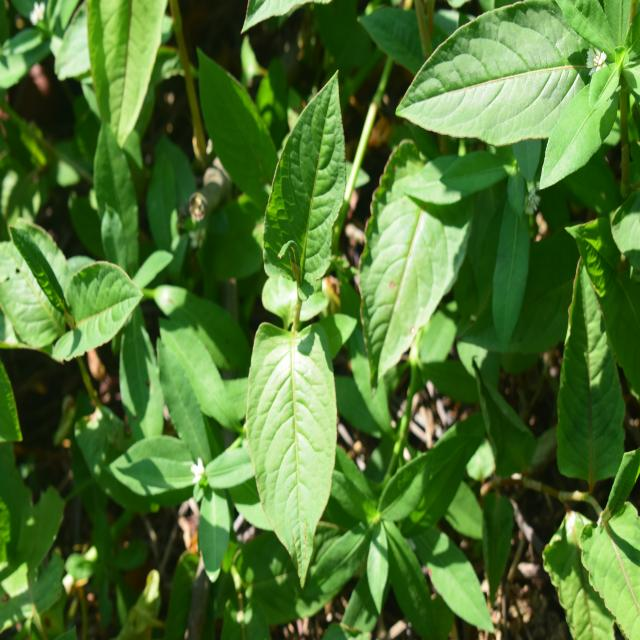Chinese_knotweed: (247, 80, 375, 550)
